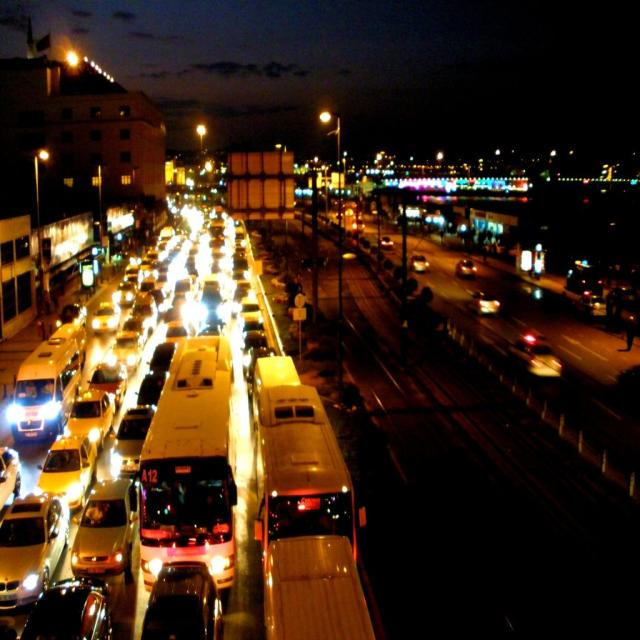Bus: (135, 309, 247, 581), (248, 359, 362, 539)
car: (76, 465, 142, 595), (7, 323, 81, 437), (0, 492, 56, 610), (44, 420, 91, 516), (511, 323, 571, 395), (68, 381, 109, 454), (117, 386, 148, 470), (457, 281, 507, 323), (197, 269, 222, 317), (90, 298, 121, 336), (240, 324, 267, 361), (407, 248, 436, 282), (456, 252, 478, 275), (379, 230, 396, 255)
